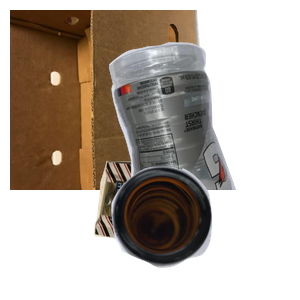cardboard: (10, 10, 211, 190)
glass: (109, 164, 300, 300)
plastic: (106, 40, 300, 220)
trash: (92, 158, 277, 300)
